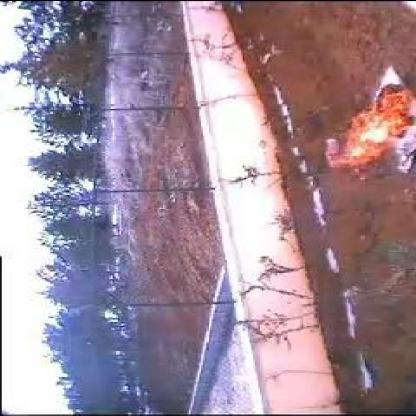foggia-v2-map80-epoch100 - v1 4323: (331, 80, 411, 172)
